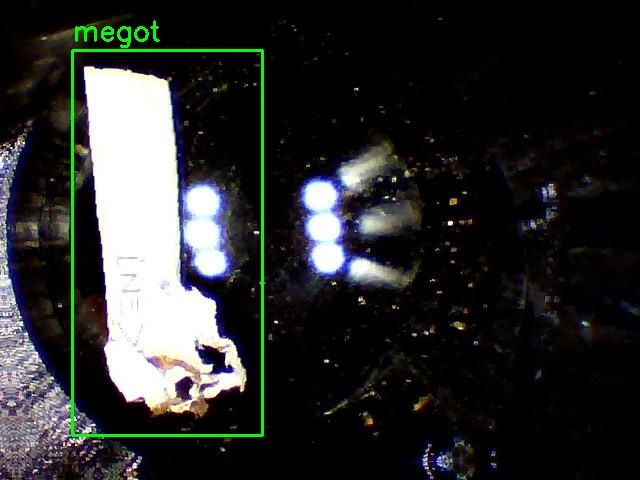megot: (72, 50, 262, 435)
